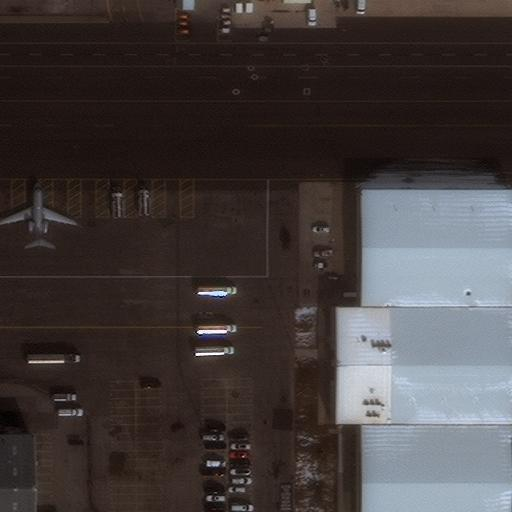Medium Civil Transport: (0, 180, 76, 247)
